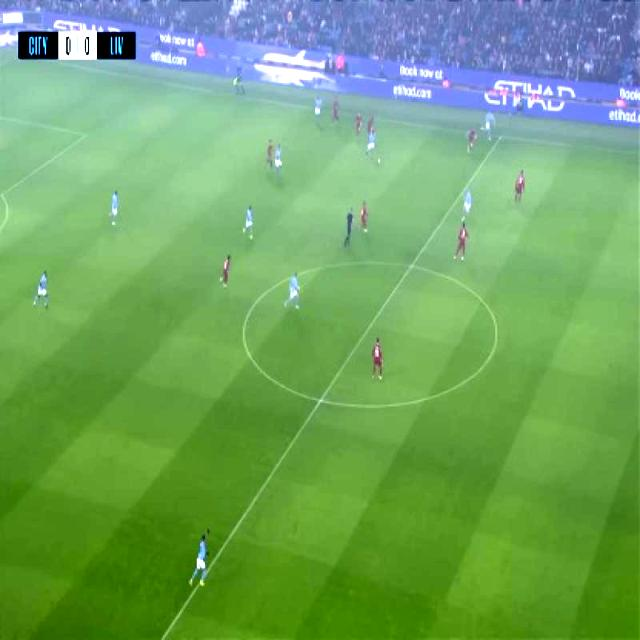bigarea_top_inner: (75, 122, 95, 148)
halfcircle_bottom: (308, 384, 330, 414)
halfcircle_top: (400, 252, 422, 278)
midline_top_intersection: (494, 126, 508, 144)
top_arc_area_intersection: (0, 183, 10, 203)
